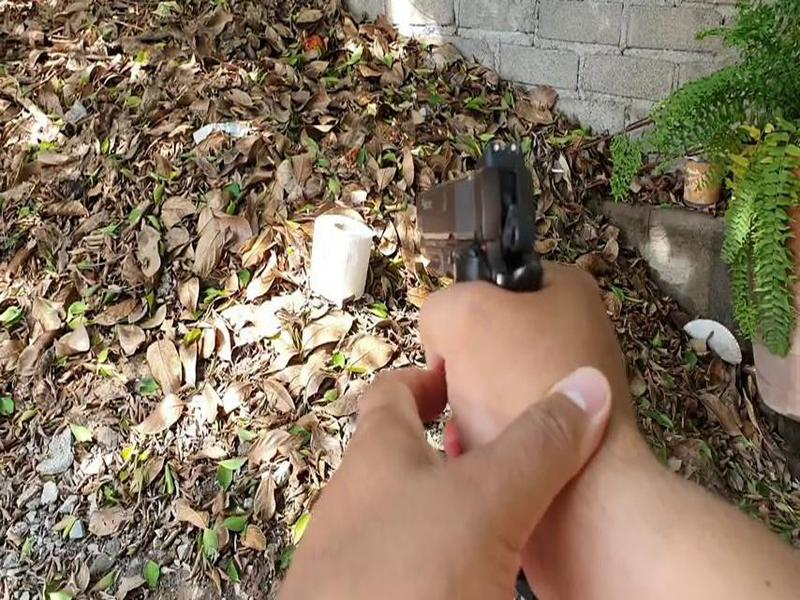Pistola: (385, 130, 563, 322)
